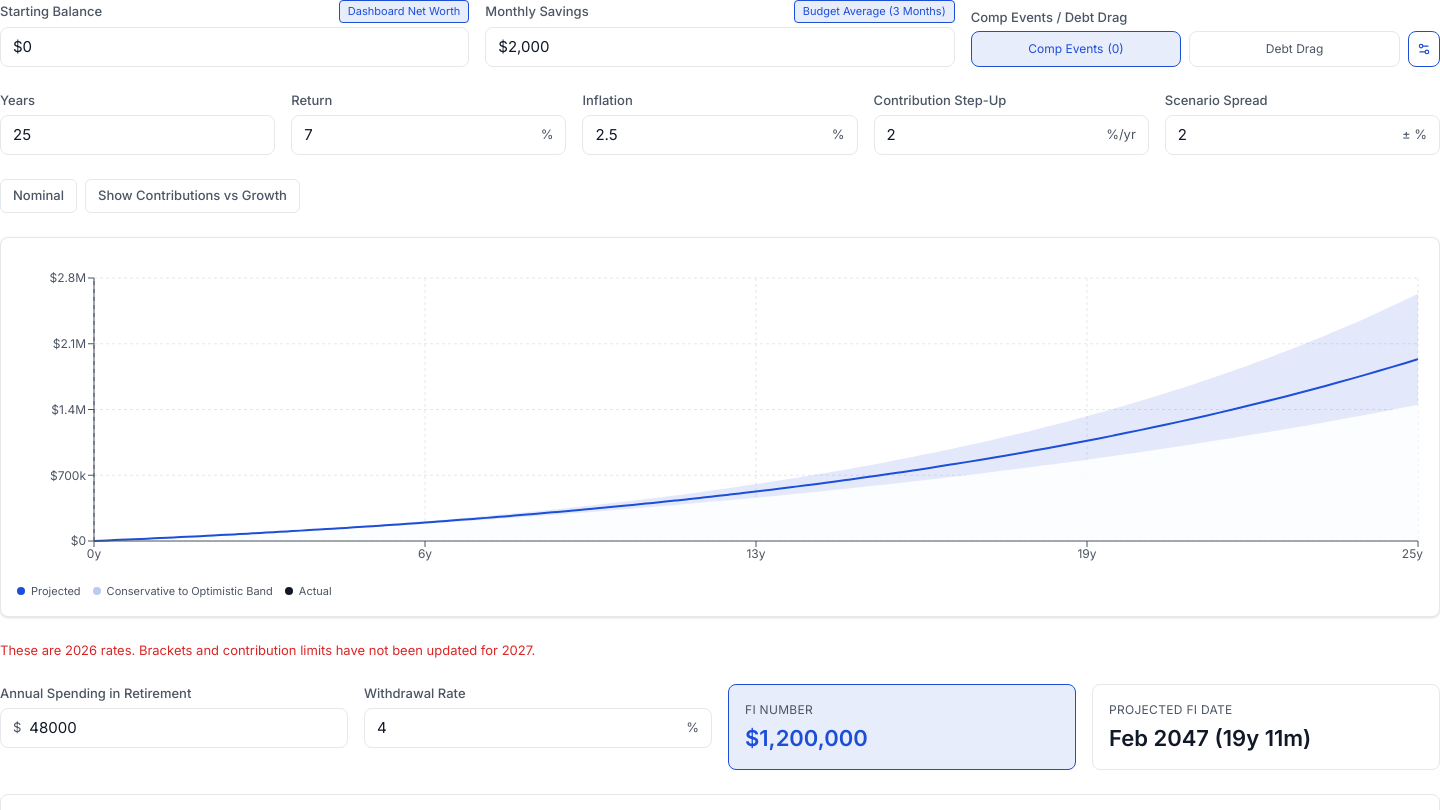
Test case: ForecasterTool stale tax year notice › does not warn when the manual rate is in use, since it does not read the tables
This screenshot has width=1440, height=810.
Step 1. Click the button named "Comp event tax settings" → (1424, 49), box [1408, 31, 1439, 67]
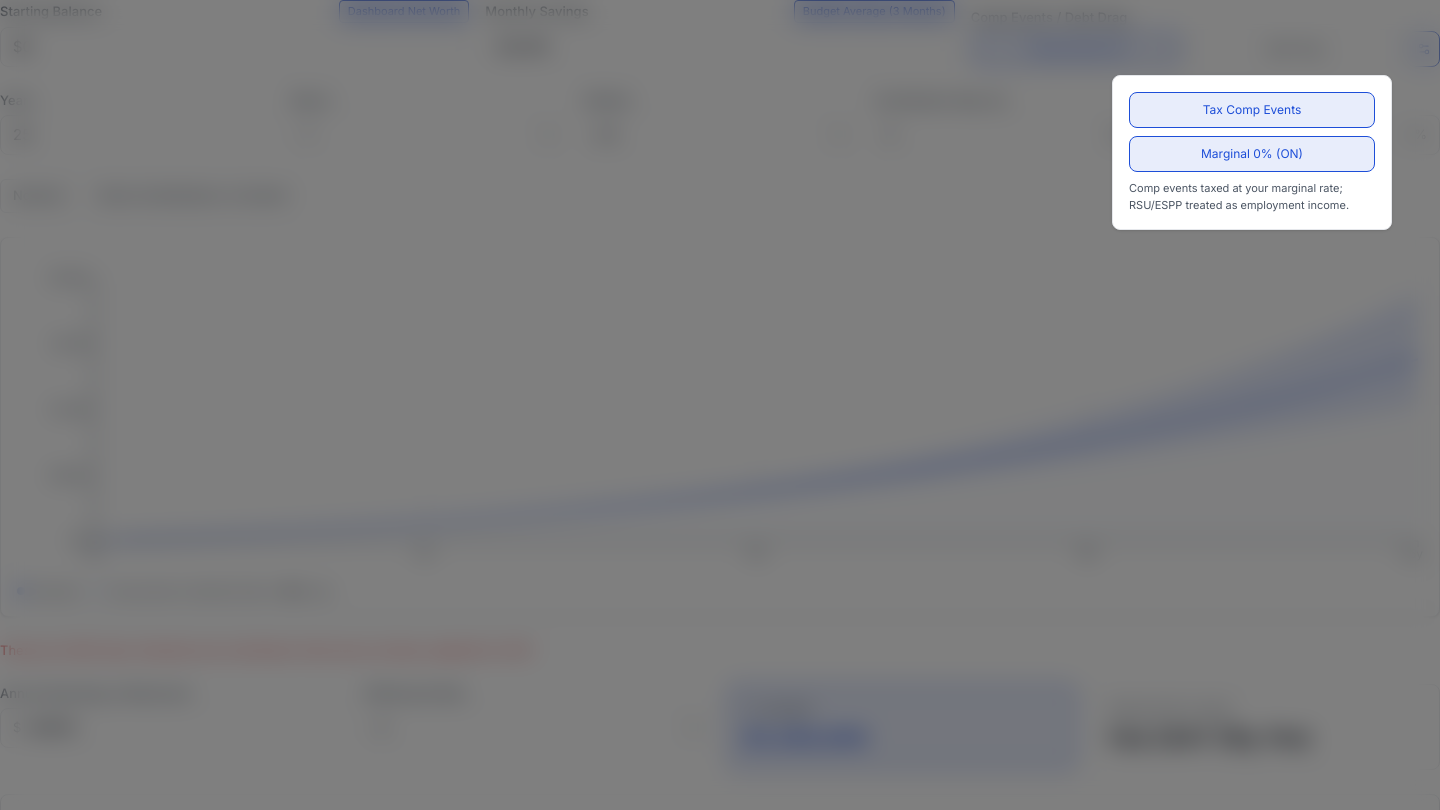
Step 2. Click the button "Marginal 0% (ON)" → (1252, 154), box [1129, 136, 1375, 172]
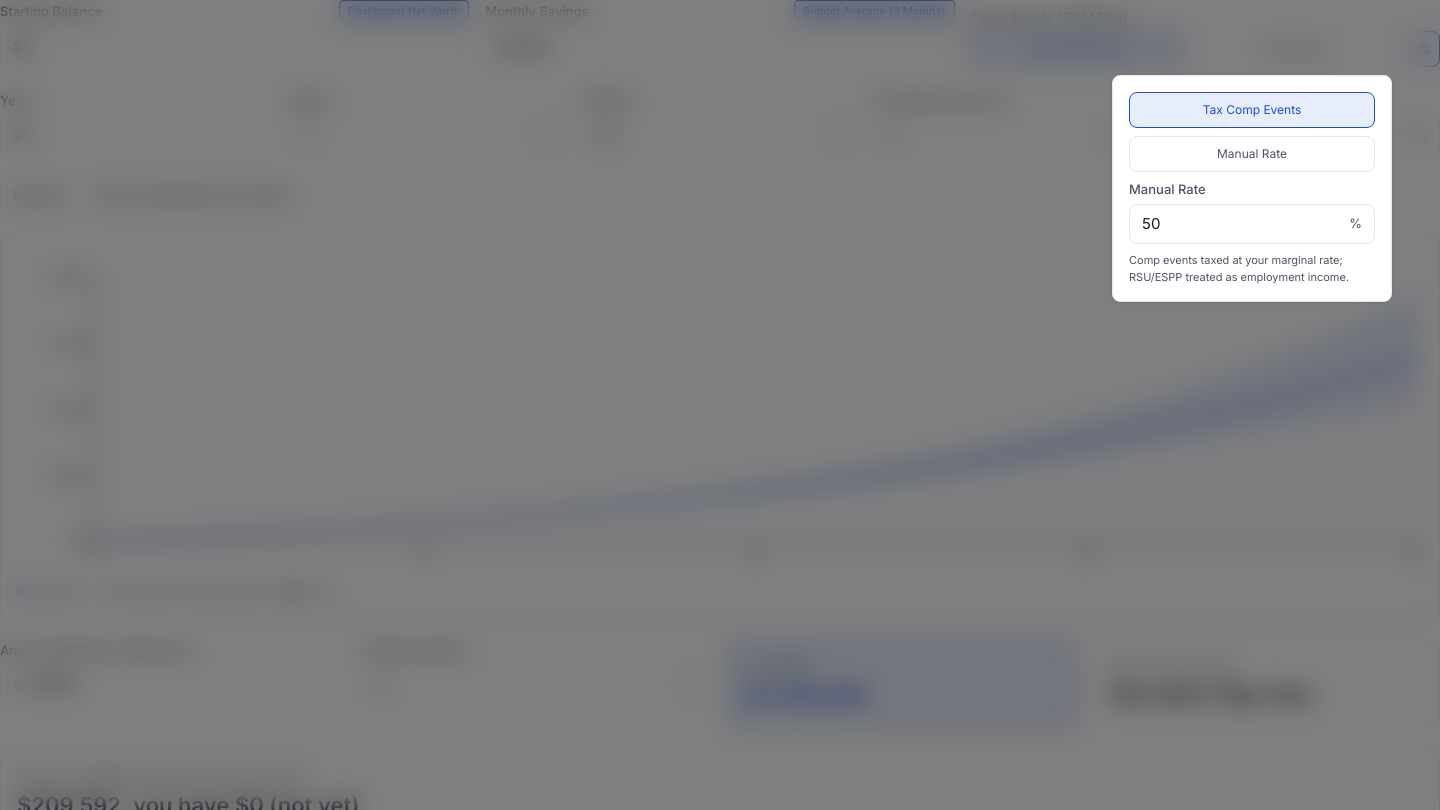
Now the message is gone
